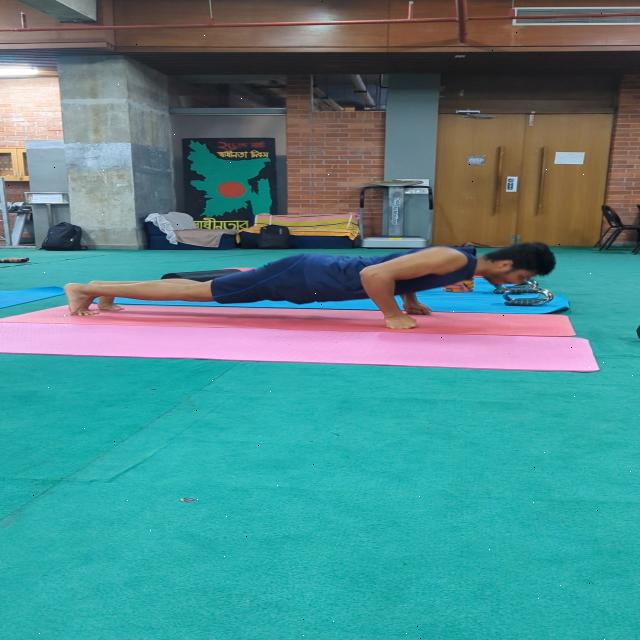Normal_PushUps: (56, 236, 596, 342)
